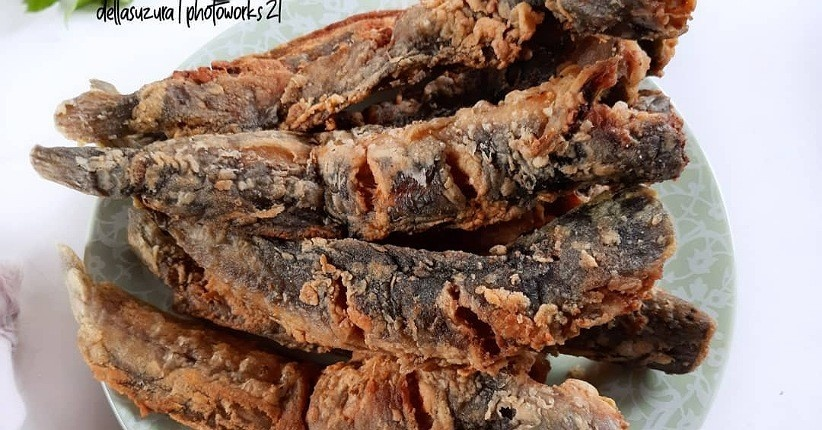pecel_lele: (1, 71, 689, 234)
